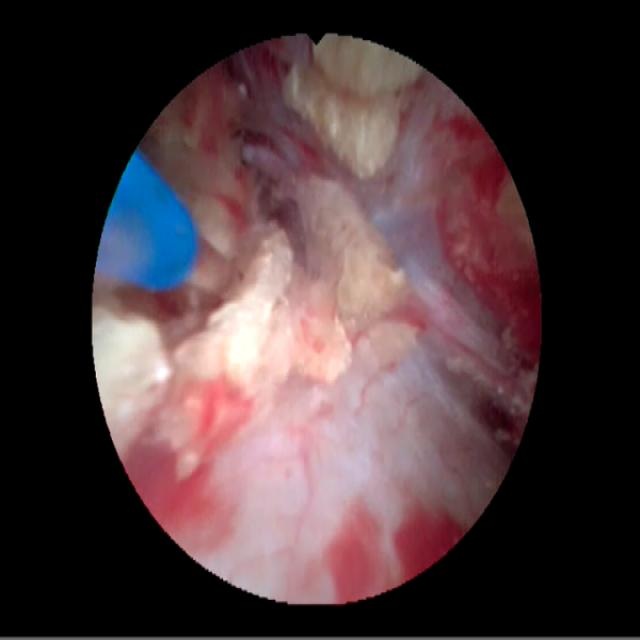fiber: (101, 154, 195, 286)
stone: (97, 121, 416, 477), (283, 41, 420, 176)
